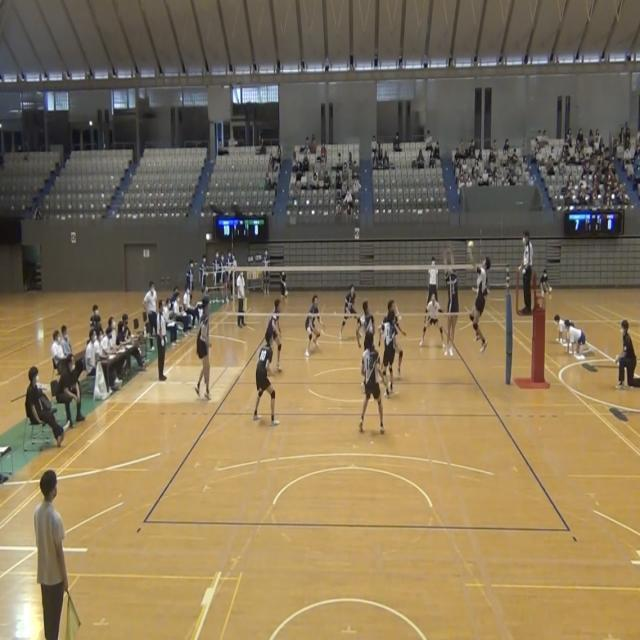spike: (461, 234, 492, 355)
